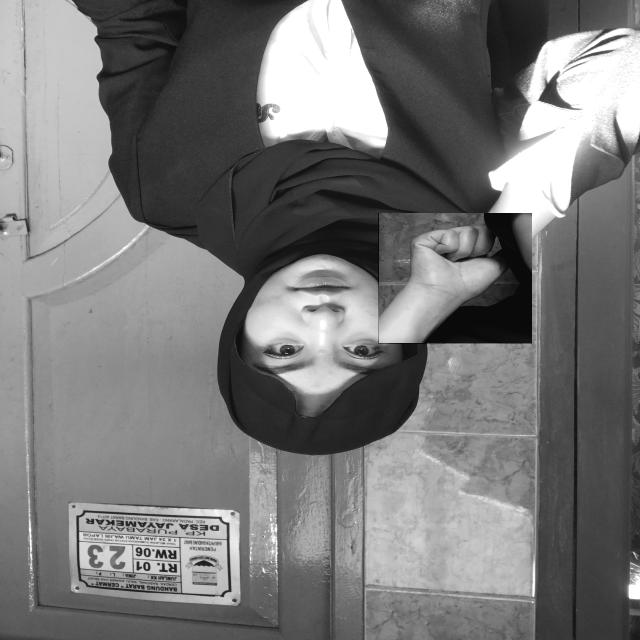ibu: (378, 213, 532, 344)
